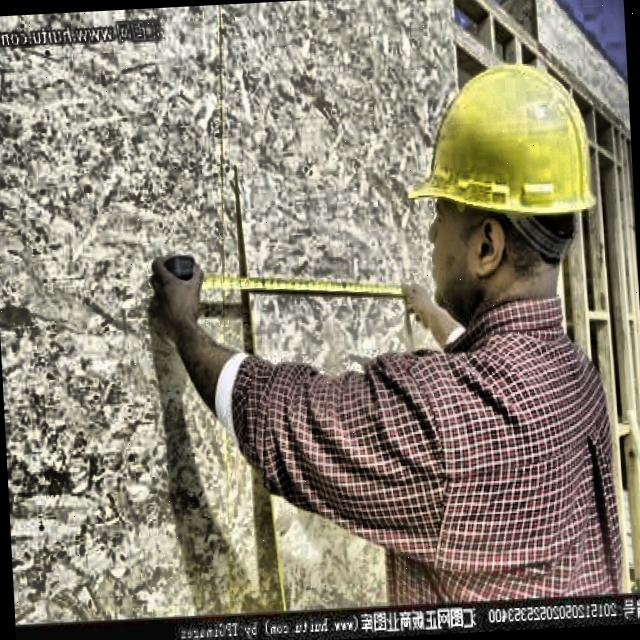helmet: (385, 29, 622, 348)
